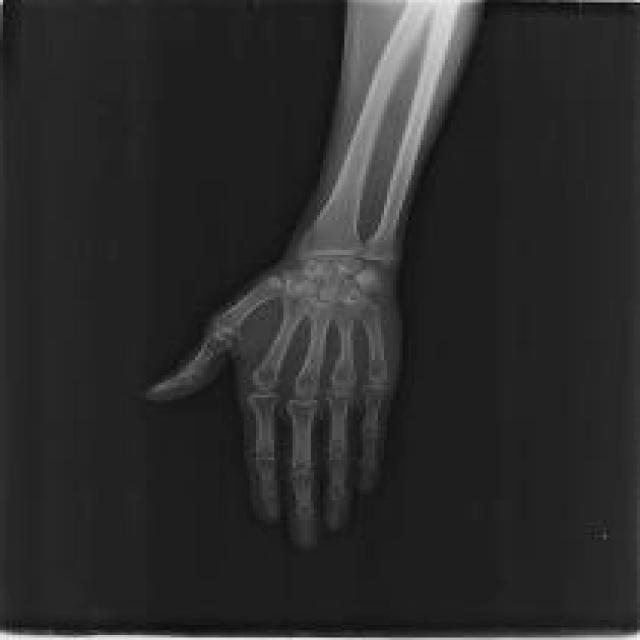normal: (142, 0, 464, 552)
